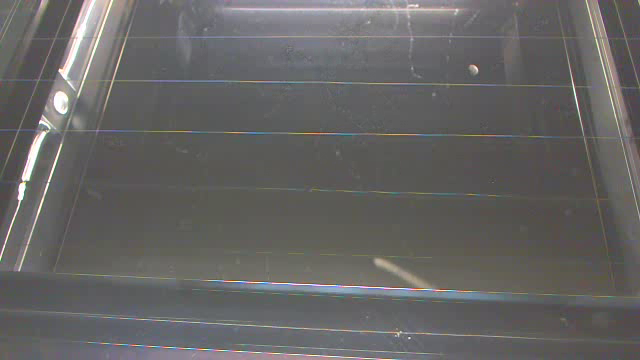Alfa: (365, 251, 441, 289), (464, 59, 479, 77)
